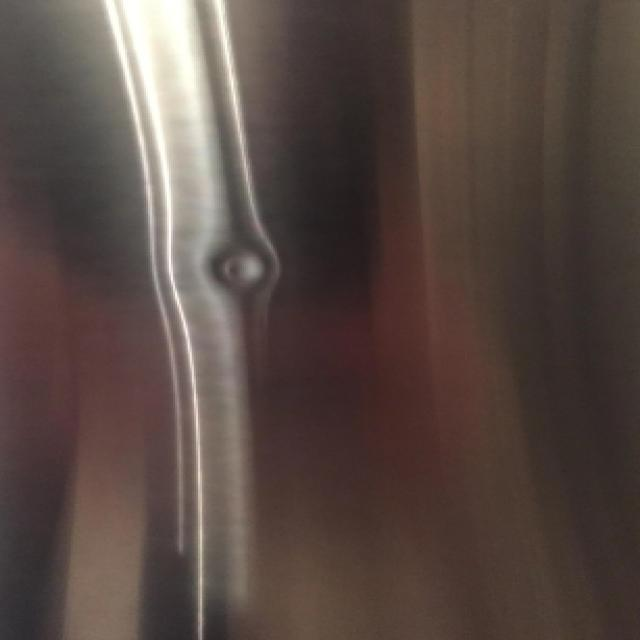dents: (171, 213, 315, 338)
